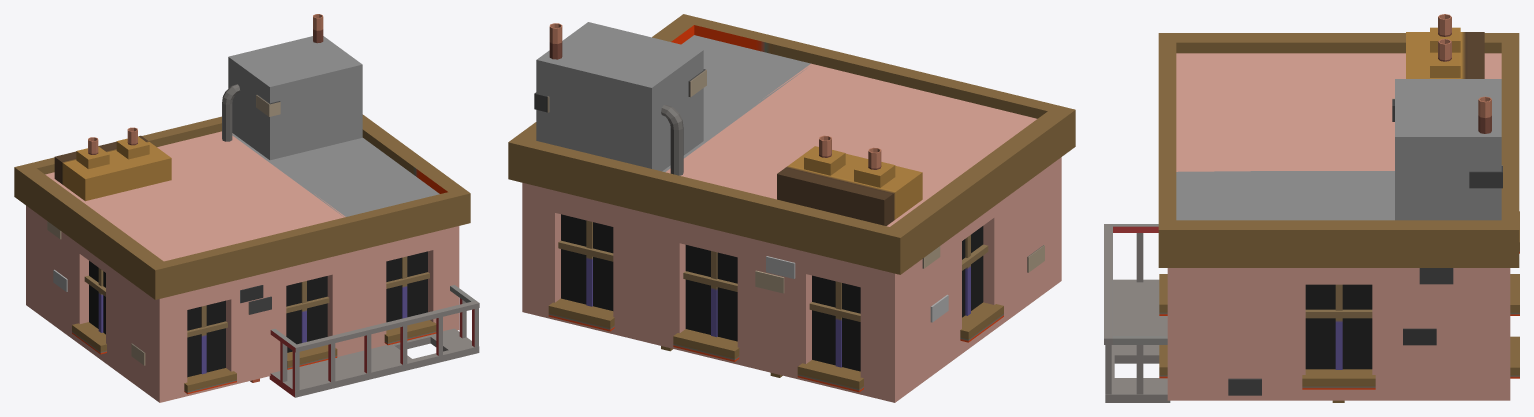
File: house3_top.fbx
3 renders of one model, left to right at view 1: azimuth 30°, elevation 25°; view 2: azimuth 150°, elevation 25°; view 3: azimuth 270°, elevation 25°, orthographic. The views are drawn at different scales.
Visible parts, largest first — view 1: polySurface298, pCube2, polySurface342, polySurface229, polySurface154, polySurface175, polySurface223, polySurface251, polySurface166; view 2: polySurface298, pCube2, polySurface229, polySurface187, polySurface199, polySurface211, polySurface223, polySurface251, polySurface188, polySurface212, polySurface200, polySurface269 (+3 smaller); view 3: polySurface298, pCube2, polySurface342, polySurface229, polySurface226, polySurface228, polySurface227, polySurface287, polySurface284, polySurface280, polySurface283, polySurface232 (+3 smaller).
Part boxes in pixels (bbox=[...]): polySurface298: bbox=[14, 114, 470, 402]; pCube2: bbox=[228, 36, 362, 160]; polySurface342: bbox=[269, 285, 479, 397]; polySurface229: bbox=[54, 135, 171, 201]; polySurface154: bbox=[184, 368, 236, 394]; polySurface175: bbox=[384, 320, 436, 345]; polySurface223: bbox=[72, 322, 106, 354]; polySurface251: bbox=[222, 84, 239, 141]; polySurface166: bbox=[287, 345, 337, 369]; polySurface298: bbox=[508, 14, 1075, 402]; pCube2: bbox=[536, 22, 703, 171]; polySurface229: bbox=[777, 146, 922, 225]; polySurface187: bbox=[548, 298, 614, 331]; polySurface199: bbox=[673, 329, 739, 361]; polySurface211: bbox=[797, 360, 863, 392]; polySurface223: bbox=[960, 302, 1003, 342]; polySurface251: bbox=[661, 105, 683, 175]; polySurface188: bbox=[586, 220, 592, 306]; polySurface212: bbox=[835, 281, 841, 367]; polySurface200: bbox=[711, 251, 717, 337]; polySurface269: bbox=[755, 270, 784, 293]; polySurface298: bbox=[1158, 33, 1519, 400]; pCube2: bbox=[1395, 79, 1501, 220]; polySurface342: bbox=[1104, 224, 1170, 402]; polySurface229: bbox=[1406, 27, 1484, 78]; polySurface226: bbox=[1302, 369, 1375, 389]; polySurface228: bbox=[1305, 309, 1372, 318]; polySurface227: bbox=[1335, 284, 1342, 369]; polySurface287: bbox=[1469, 165, 1502, 188]; polySurface284: bbox=[1403, 328, 1436, 345]; polySurface280: bbox=[1228, 378, 1261, 395]; polySurface283: bbox=[1419, 268, 1453, 284]; polySurface232: bbox=[1478, 96, 1491, 133].
Size of the model in its own units: 1428 by 1033 by 1274.
